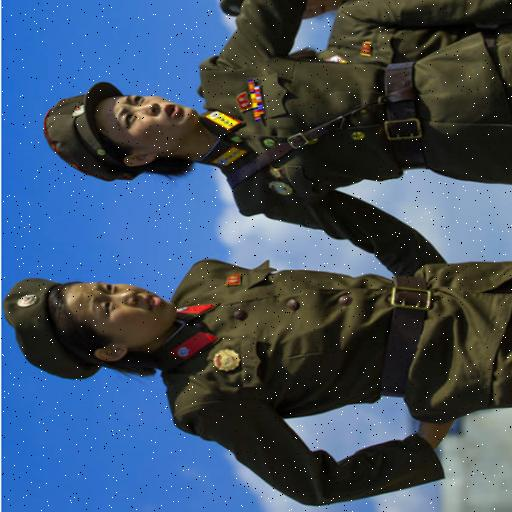north army: (4, 0, 512, 479)
